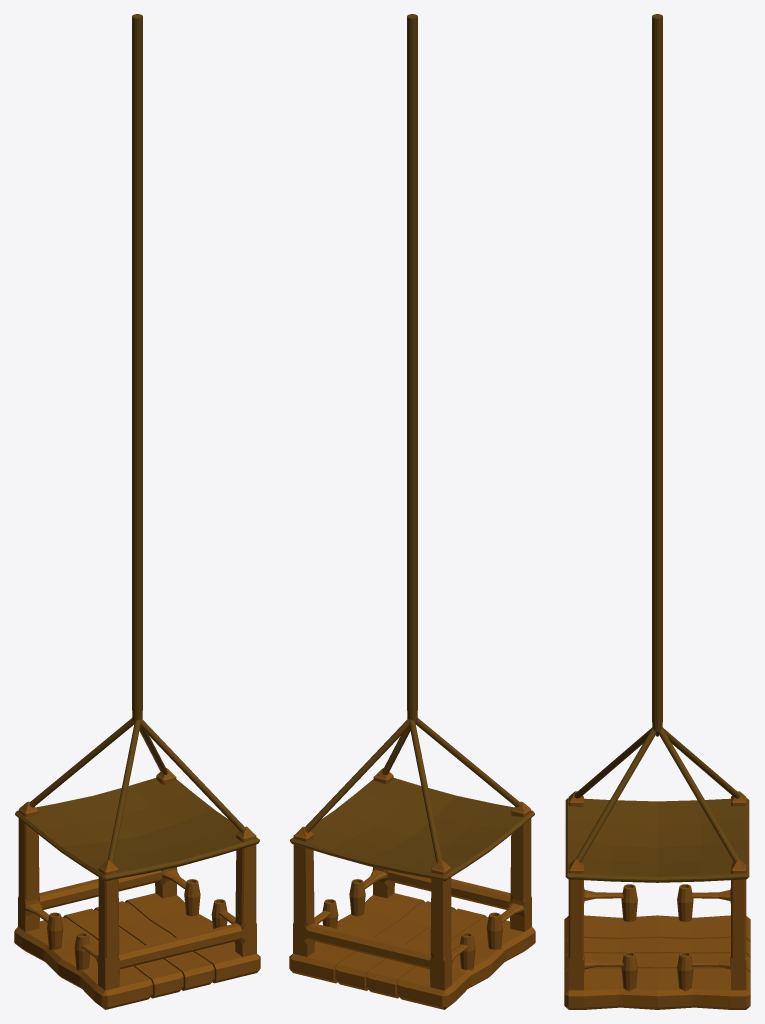
Rendered from elevator.fbx.
3 views of the same model, side by side, from view 1: azimuth 30°, elevation 25°; view 2: azimuth 150°, elevation 25°; view 3: azimuth 270°, elevation 25° (orthographic).
Visible parts, largest first — view 1: Cube, Cube.001, Cylinder, Cylinder.001; view 2: Cube, Cube.001, Cylinder, Cylinder.001; view 3: Cube, Cube.001, Cylinder, Cylinder.001.
Boxes of the visible parts, box(x1,y1,x2,y2) form: Cube: box(14, 768, 260, 1009); Cube.001: box(15, 778, 259, 881); Cylinder: box(132, 14, 142, 722); Cylinder.001: box(29, 718, 244, 863); Cube: box(289, 768, 535, 1009); Cube.001: box(290, 778, 534, 881); Cylinder: box(407, 14, 417, 722); Cylinder.001: box(305, 718, 520, 863); Cube: box(564, 791, 750, 1009); Cube.001: box(565, 798, 749, 882); Cylinder: box(652, 14, 662, 736); Cylinder.001: box(574, 727, 740, 862).
Size of the model in its own units: 455 by 2574 by 455.
